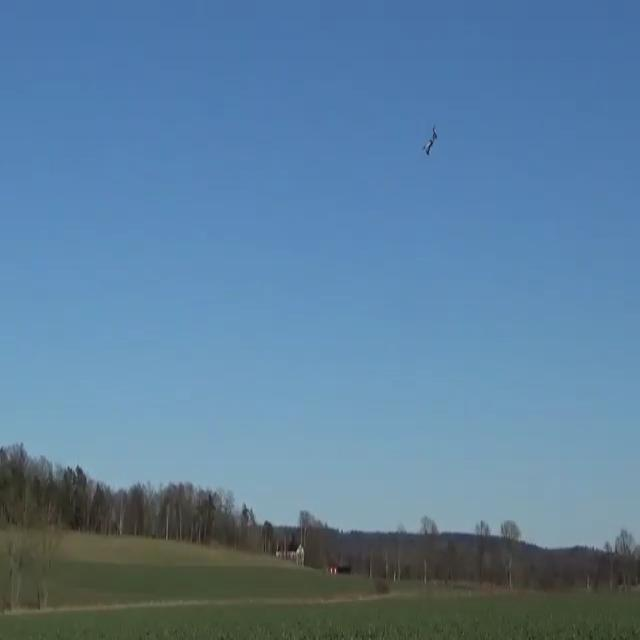Drone: (412, 125, 450, 162)
